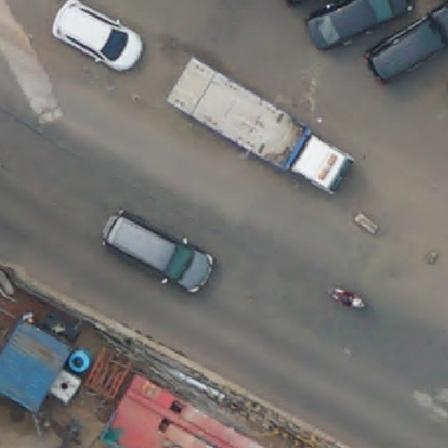Car: (168, 55, 353, 196), (102, 211, 215, 296), (367, 0, 448, 86), (56, 1, 144, 70), (305, 0, 414, 51)
Motorcycle: (328, 282, 369, 316)
